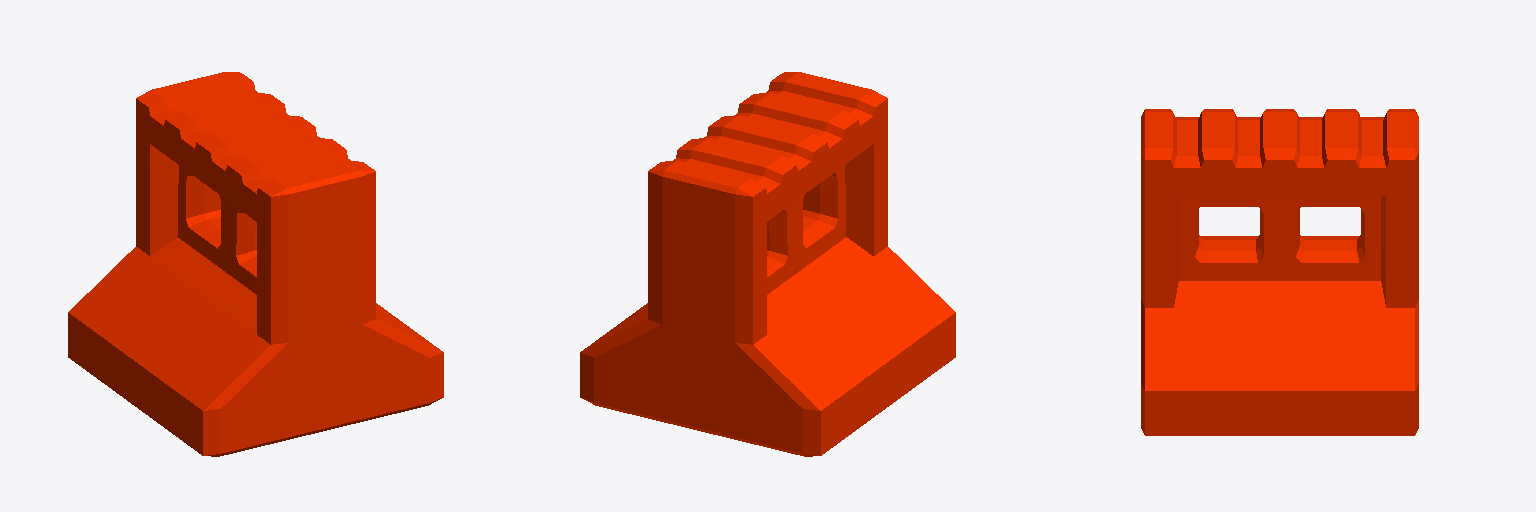
The picture shows the model from 3 angles: view 1: azimuth 30°, elevation 25°; view 2: azimuth 150°, elevation 25°; view 3: azimuth 270°, elevation 25°; orthographic projection.
Visible parts, largest first — view 1: water_barrier_立方体.002_立方体.007; view 2: water_barrier_立方体.002_立方体.007; view 3: water_barrier_立方体.002_立方体.007.
Part boxes in pixels (x1,y1,x2,y2): water_barrier_立方体.002_立方体.007: (68,72,443,456); water_barrier_立方体.002_立方体.007: (580,72,955,456); water_barrier_立方体.002_立方体.007: (1141,109,1418,435).
Bounding box in the file's own units: 1 × 1 × 1.